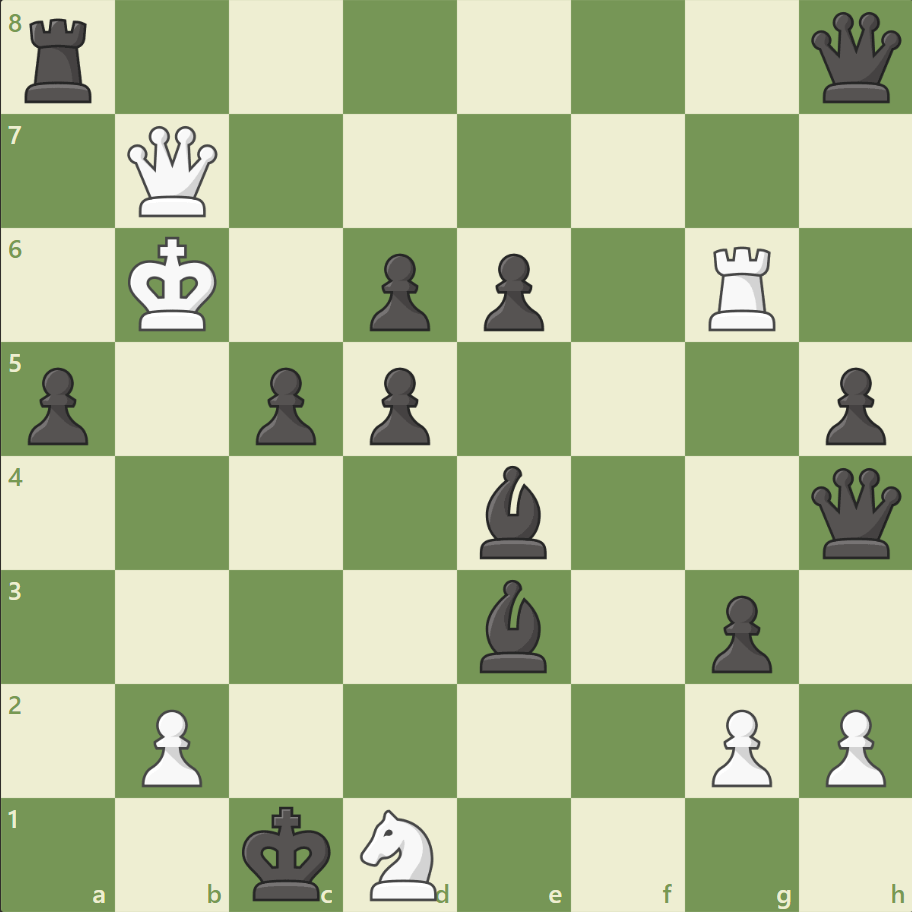K: (124, 231, 224, 339)
N: (351, 802, 449, 904)
P: (133, 700, 208, 791), (701, 700, 776, 791), (815, 700, 889, 791)
Q: (124, 122, 223, 222)
R: (700, 239, 783, 336)
b: (471, 460, 555, 563), (471, 574, 555, 676)
k: (238, 798, 338, 906)
p: (474, 246, 549, 337), (20, 359, 95, 450), (247, 359, 322, 450), (701, 586, 776, 677), (361, 246, 435, 337), (361, 359, 435, 450), (815, 359, 889, 450)
q: (805, 9, 904, 108), (805, 463, 904, 562)
r: (19, 12, 102, 109)
